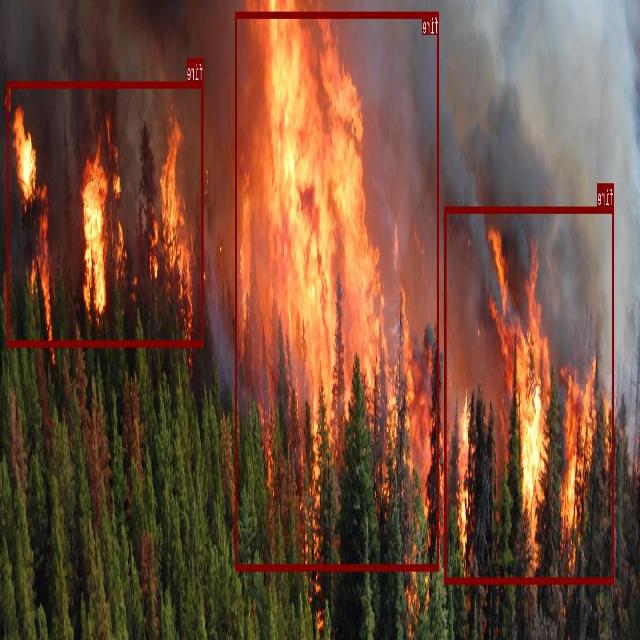fire: (236, 11, 439, 570), (446, 205, 614, 582), (7, 81, 204, 345)
